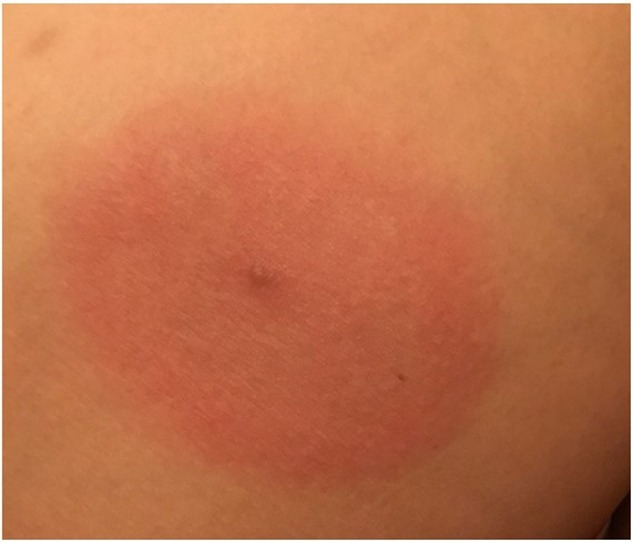Ringworm: (34, 50, 520, 483)
